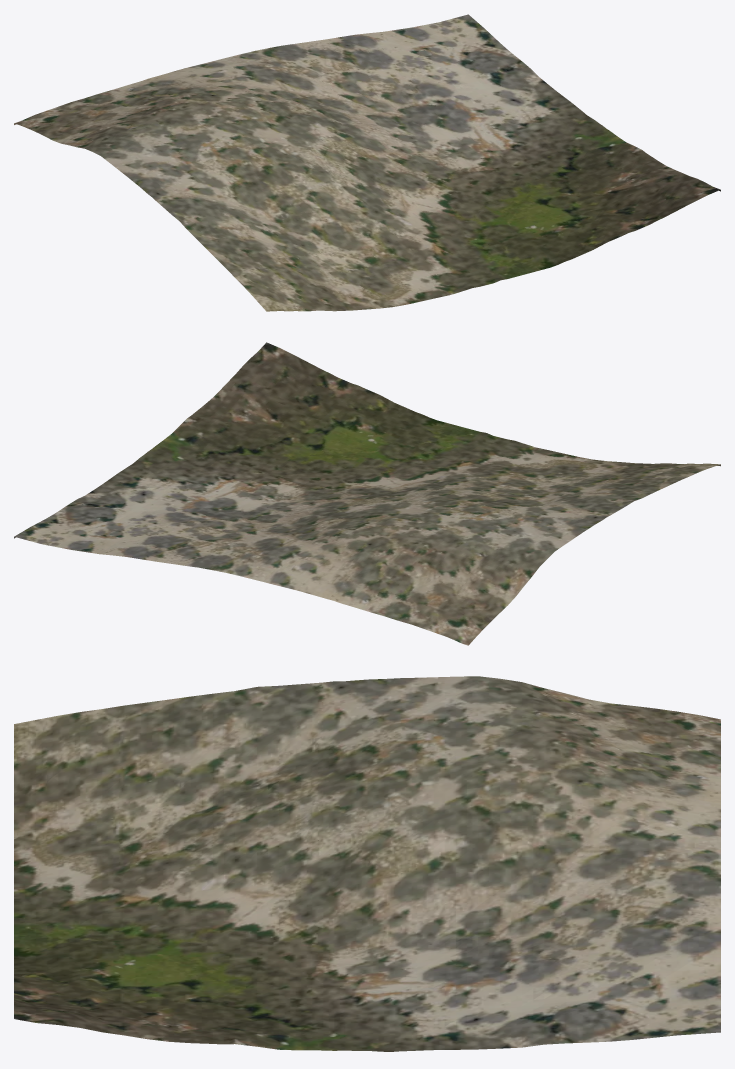
The picture shows the model from 3 angles, top to bottom: view 1: azimuth 30°, elevation 25°; view 2: azimuth 150°, elevation 25°; view 3: azimuth 270°, elevation 25°; orthographic projection. The views are drawn at different scales.
Size of the model in its own units: 250 by 35.06 by 241.
1 material, 1 textured.
